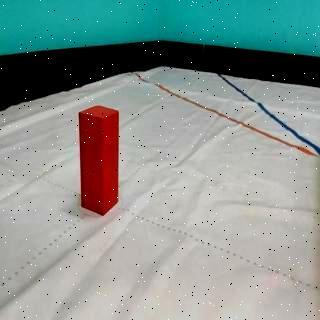redbox: (78, 105, 119, 216)
